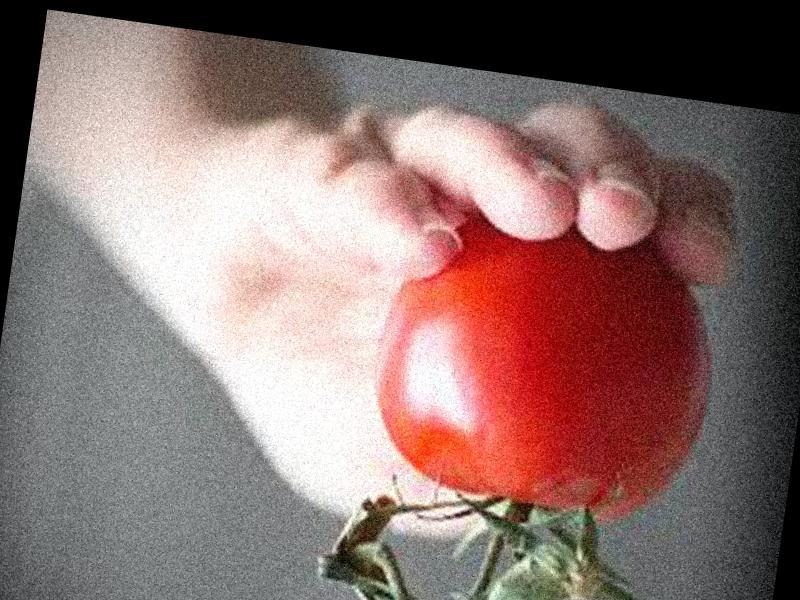Tomato: (361, 204, 729, 539)
